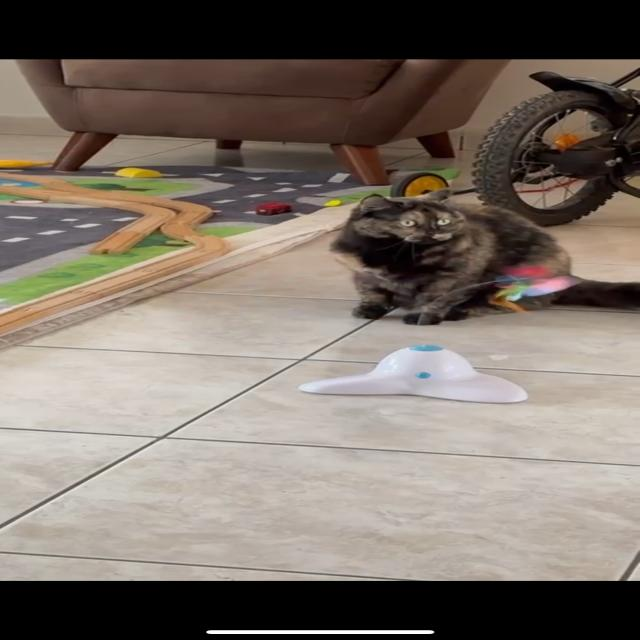authorized: (328, 188, 638, 326)
